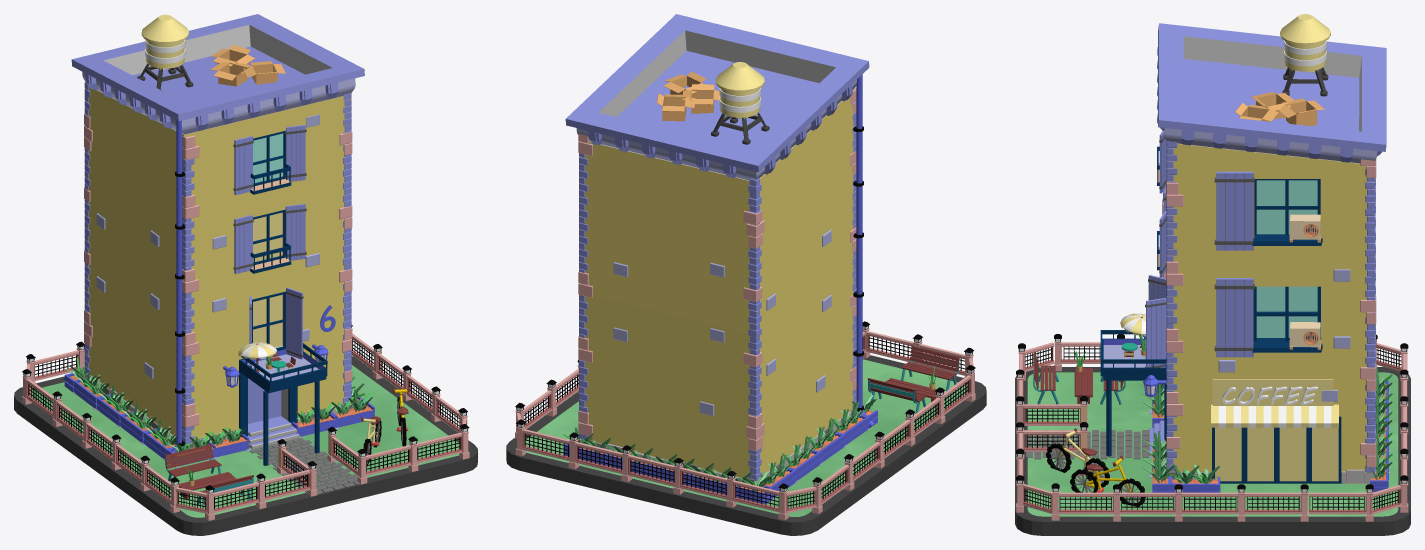
File: lv3house_4.fbx
3 views of the same model, side by side, from view 1: azimuth 30°, elevation 25°; view 2: azimuth 150°, elevation 25°; view 3: azimuth 270°, elevation 25° (orthographic). The views are drawn at different scales.
Visible parts, largest first — view 1: house_lv3_4, housebase_lv3_4, housebank_lv3_4, houseumbrella_lv3_4; view 2: house_lv3_4, housebase_lv3_4, housebank_lv3_4; view 3: house_lv3_4, housebase_lv3_4, housebank_lv3_4, housebicycle_lv3_yellow_4, housebicycle_lv3_red_4, houseumbrella_lv3_4.
Part boxes in pixels (box(x1,y1,x2,y2)): house_lv3_4: box(64, 14, 374, 468); housebase_lv3_4: box(14, 325, 477, 535); housebank_lv3_4: box(165, 444, 253, 507); houseumbrella_lv3_4: box(238, 342, 276, 372); house_lv3_4: box(563, 14, 879, 504); housebase_lv3_4: box(506, 321, 986, 535); housebank_lv3_4: box(868, 346, 959, 413); house_lv3_4: box(1100, 14, 1392, 497); housebase_lv3_4: box(1015, 334, 1410, 535); housebank_lv3_4: box(1033, 350, 1125, 404); housebicycle_lv3_yellow_4: box(1070, 455, 1145, 506); housebicycle_lv3_red_4: box(1046, 428, 1109, 487); houseumbrella_lv3_4: box(1120, 313, 1145, 347).
Size of the model in its own units: 2844 by 3609 by 3068.
